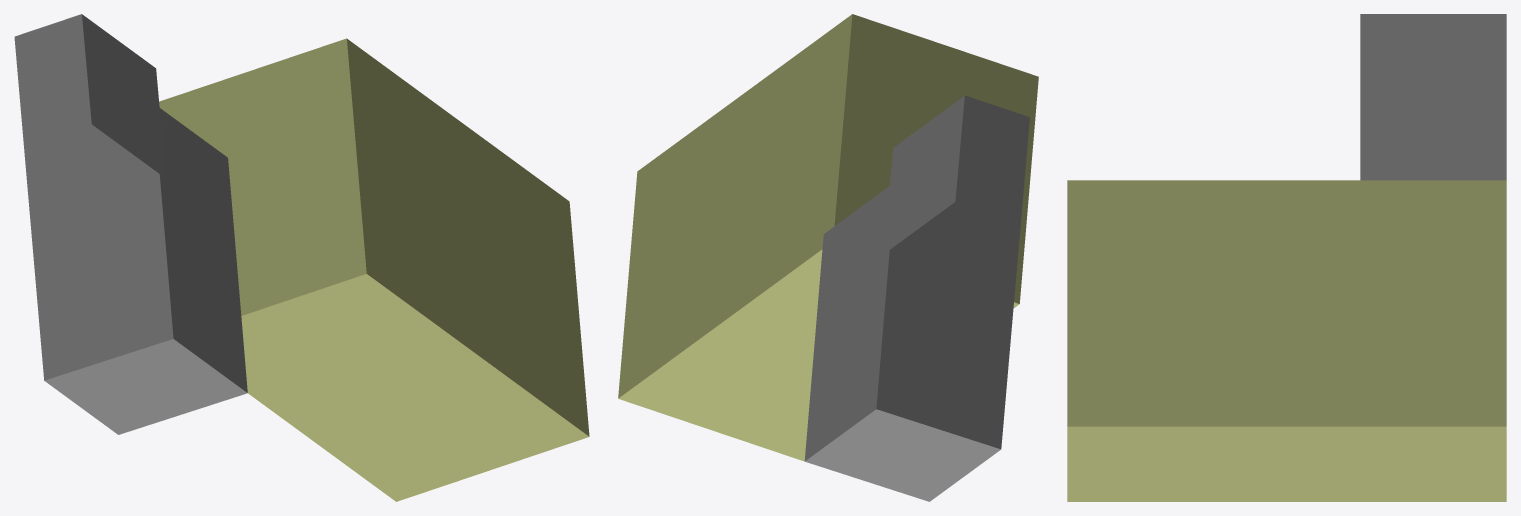
3 renders of one model, left to right at view 1: azimuth 30°, elevation 25°; view 2: azimuth 150°, elevation 25°; view 3: azimuth 270°, elevation 25°, orthographic. The views are drawn at different scales.
Parts seen in each view (by area): view 1: 0_2_3_3_3_1_0_1_3_2_0; view 2: 0_2_3_3_3_1_0_1_3_2_0; view 3: 0_2_3_3_3_1_0_1_3_2_0.
Boxes of the visible parts, x1=… form: 0_2_3_3_3_1_0_1_3_2_0: x1=14, y1=14, x2=589, y2=501; 0_2_3_3_3_1_0_1_3_2_0: x1=618, y1=14, x2=1038, y2=501; 0_2_3_3_3_1_0_1_3_2_0: x1=1067, y1=14, x2=1506, y2=501.
Size of the model in its own units: 8.22 by 7.97 by 9.
